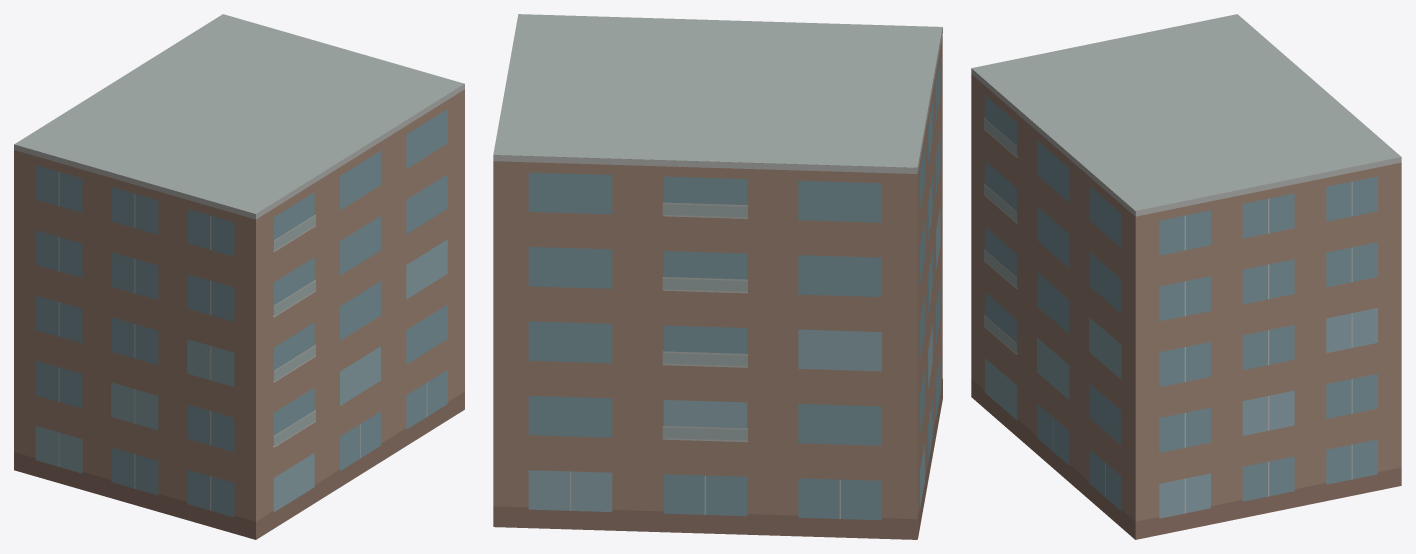
Rendered from survey-upis-33041339.glb.
The picture shows the model from 3 angles, left to right: view 1: azimuth 30°, elevation 25°; view 2: azimuth 150°, elevation 25°; view 3: azimuth 270°, elevation 25°; orthographic projection. The views are drawn at different scales.
Visible parts, largest first — view 1: survey-upis-33041339.tmp; view 2: survey-upis-33041339.tmp; view 3: survey-upis-33041339.tmp.
Part boxes in pixels (bbox=[...]): survey-upis-33041339.tmp: bbox=[14, 14, 464, 539]; survey-upis-33041339.tmp: bbox=[493, 14, 942, 539]; survey-upis-33041339.tmp: bbox=[971, 14, 1401, 539].
Bounding box in the file's own units: 18.52 × 14.4 × 17.09.
